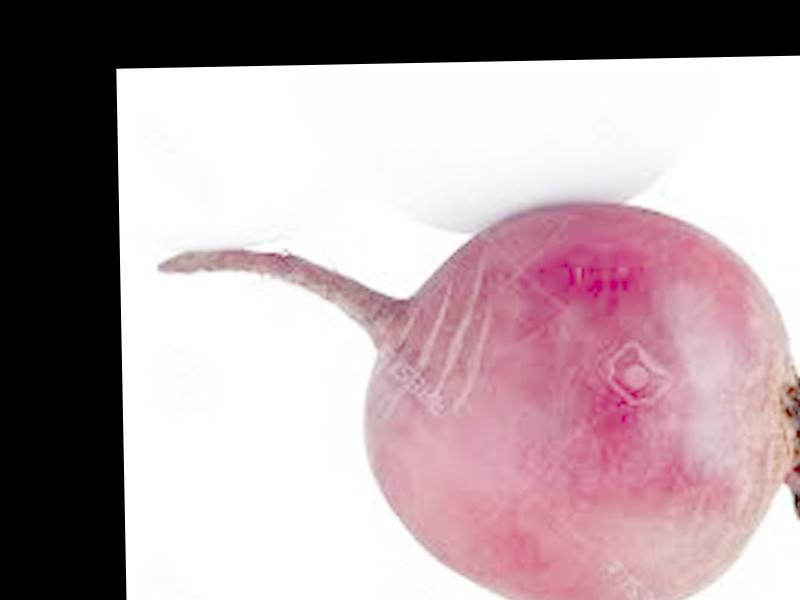Beet: (156, 197, 800, 600)
